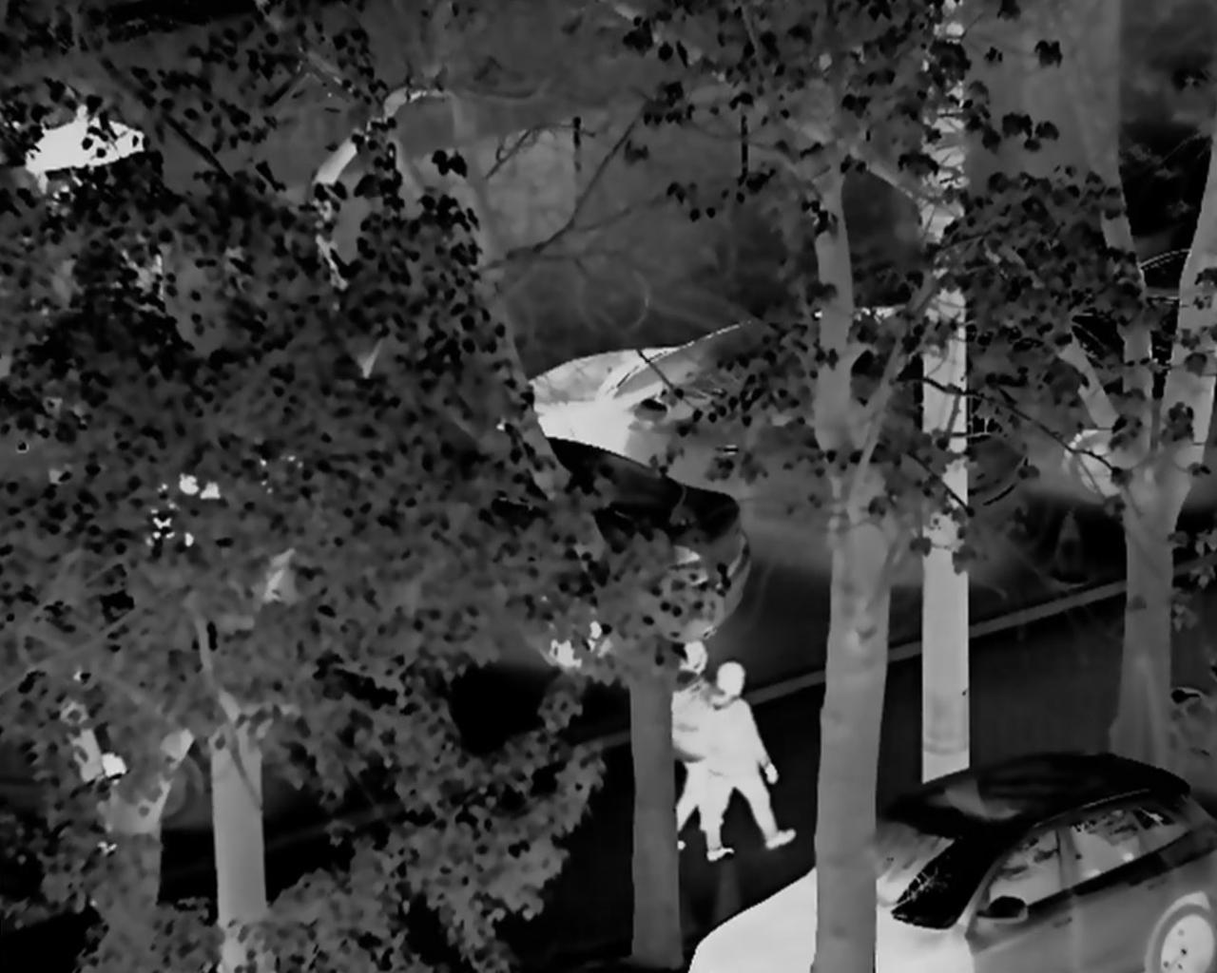person: (692, 658, 791, 866), (658, 639, 726, 869)
